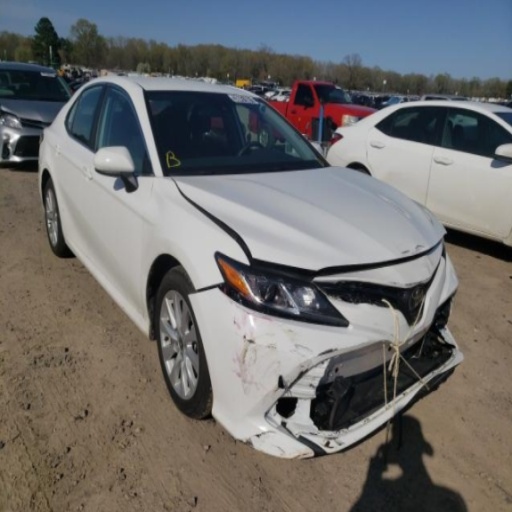dent: (411, 252, 455, 338), (423, 251, 436, 275)
rust: (279, 447, 314, 459), (238, 436, 254, 446)
scratch: (231, 303, 272, 322), (235, 340, 249, 384), (248, 345, 257, 367), (254, 333, 276, 341), (296, 344, 313, 352), (290, 350, 306, 358), (388, 282, 419, 286), (264, 359, 274, 371), (232, 321, 242, 329), (265, 344, 277, 350), (277, 361, 281, 369), (287, 329, 293, 333), (301, 365, 306, 369), (288, 329, 294, 332)
